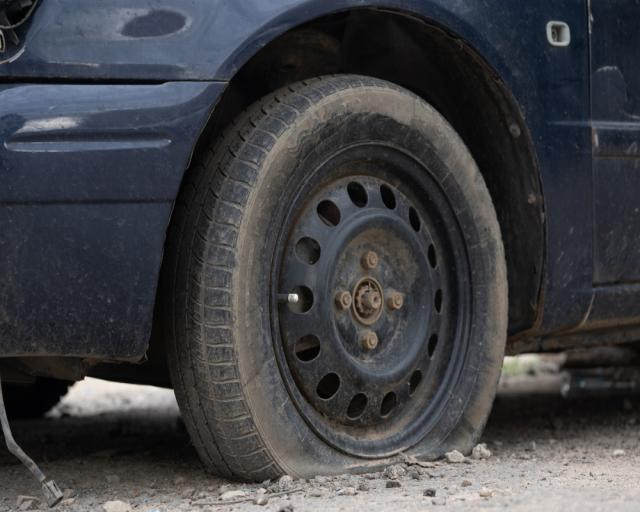tire flat: (169, 71, 507, 484)
